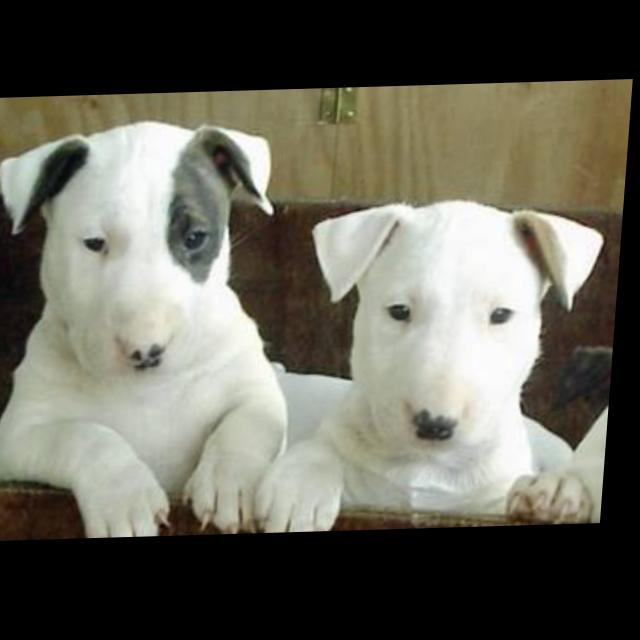bullterrier: (1, 116, 315, 542), (260, 198, 620, 536)
